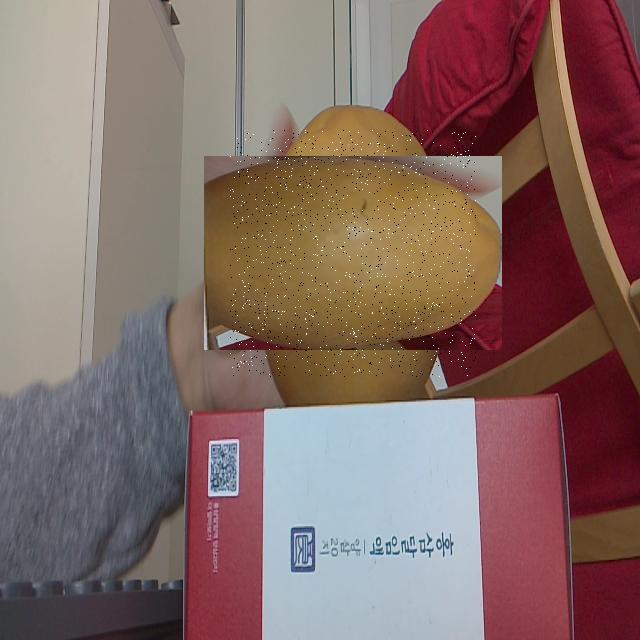pear: (230, 130, 476, 377)
